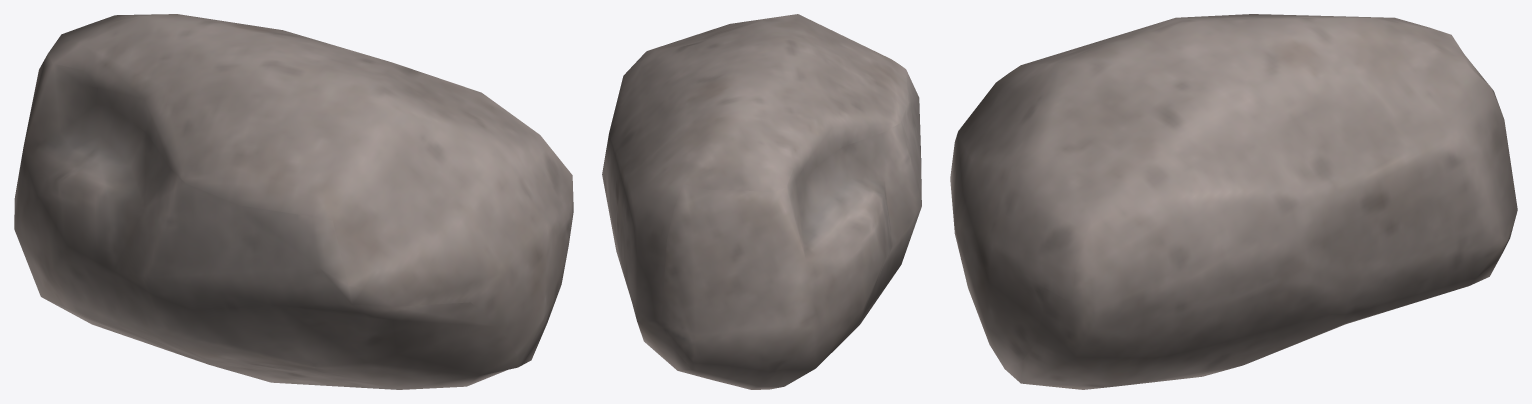
Rendered from PiedraPuequeña.fbx.
3 renders of one model, left to right at view 1: azimuth 30°, elevation 25°; view 2: azimuth 150°, elevation 25°; view 3: azimuth 270°, elevation 25°, orthographic. The views are drawn at different scales.
Visible parts, largest first — view 1: PiedraPequeña; view 2: PiedraPequeña; view 3: PiedraPequeña.
Part boxes in pixels (box(x1,y1,x2,y2)): PiedraPequeña: box(14, 14, 573, 389); PiedraPequeña: box(602, 14, 921, 389); PiedraPequeña: box(950, 14, 1517, 389).
Bounding box in the file's own units: 216 × 167 × 265.
